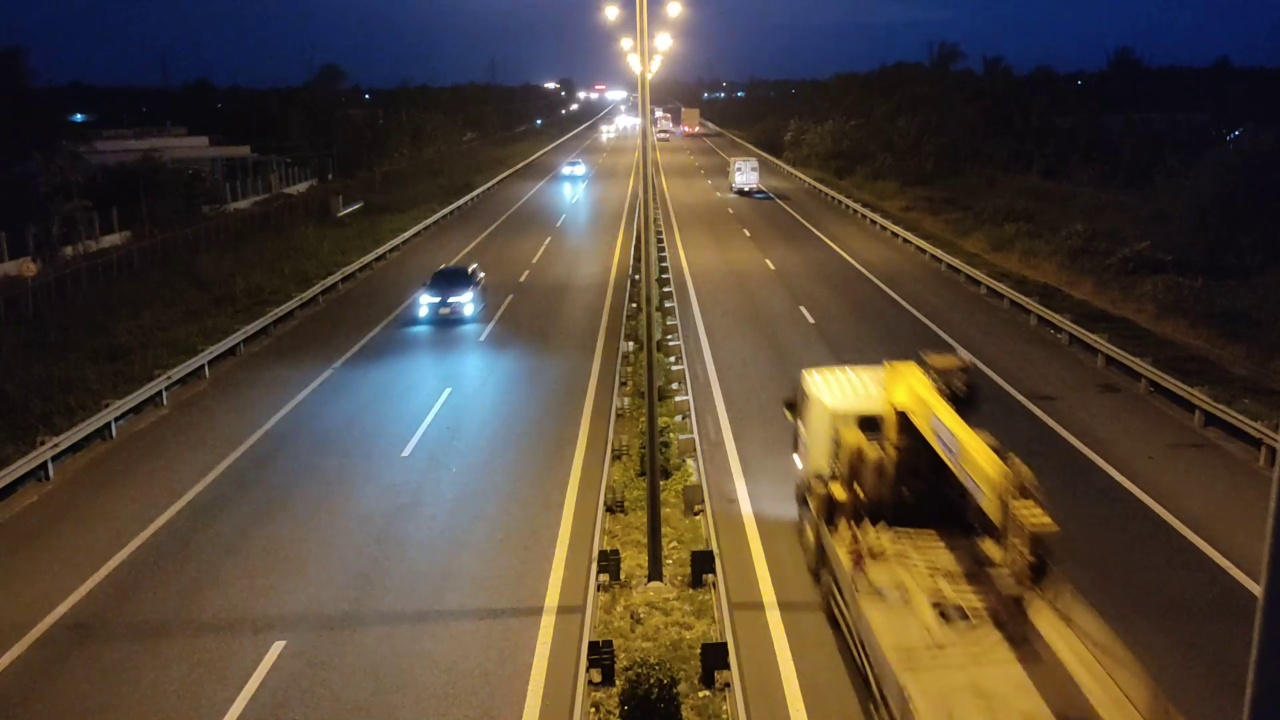car: (415, 262, 488, 325)
truck: (786, 350, 1118, 713)
